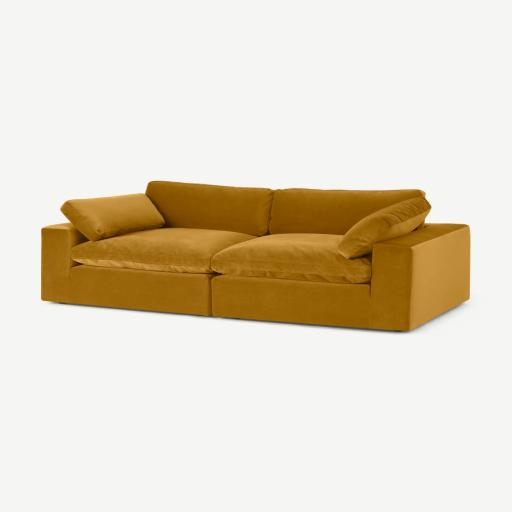back_cushion: (146, 181, 424, 236)
base: (61, 266, 369, 327)
left_arm: (369, 225, 470, 330)
right_arm: (41, 223, 85, 302)
seat_cushion: (72, 228, 370, 283)
two-seater: (0, 0, 511, 512)
